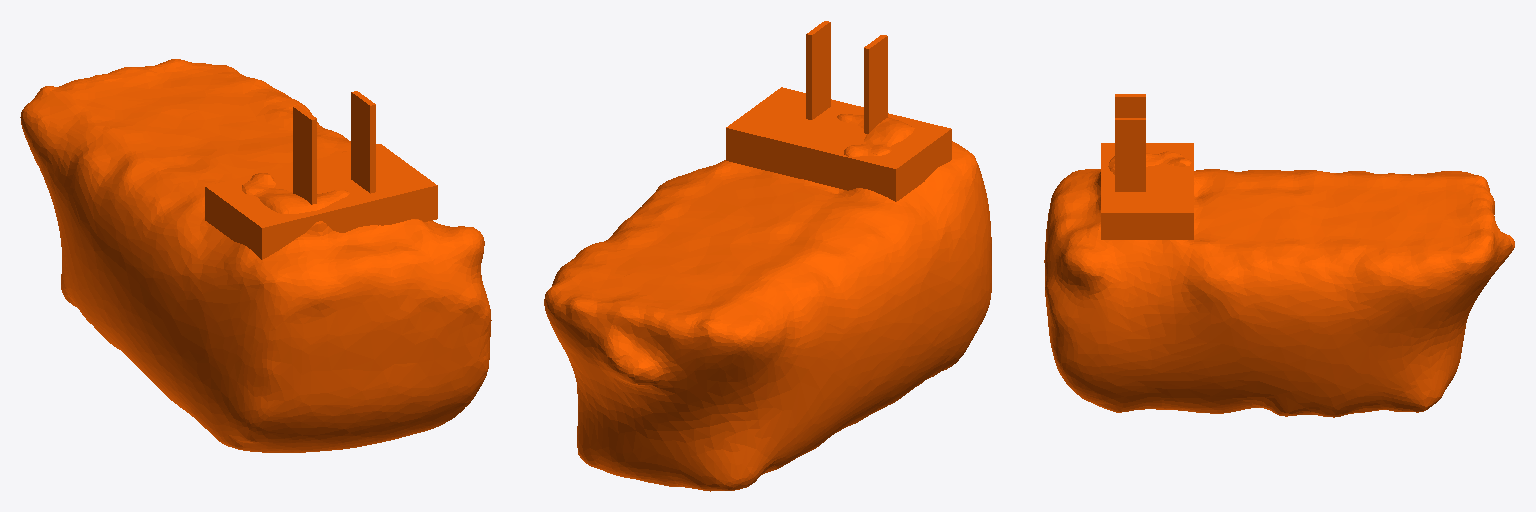
URDF robot description (plug):
<?xml version="1.0" ?>
<robot name="plug">
   <material name="obj_color">
      <color rgba="1.0 0.423529411765 0.0392156862745 1.0"/>
   </material>
   <link name="top">
      <inertial>
         <origin rpy="6.495050719484784e-05 0.0001523156004076176 0.000162102019527832" xyz="-2.769787480431226e-05 0.0001669338962743572 -0.004360600856857852"/>
         <mass value="0.2482988357077718"/>
         <inertia ixx="0.0001525355987003168" ixy="-1.668826193585857e-06" ixz="1.598776681439134e-06" iyy="6.505039336145789e-05" iyz="2.536861963664881e-06" izz="0.0001617821350685228"/>
      </inertial>
      <visual>
         <origin rpy="0 0 0" xyz="0 0 0"/>
         <geometry>
            <mesh filename="top_watertight_tiny.stl" scale="1 1 1"/>
         </geometry>
         <material name="obj_color"/>
      </visual>
      <collision>
         <origin rpy="0 0 0" xyz="0 0 0"/>
         <geometry>
            <mesh filename="top_watertight_tiny.obj" scale="1 1 1"/>
         </geometry>
      </collision>
   </link>
   <link name="bottom">
      <inertial>
         <origin rpy="1.633333333199431e-08 1.633333333199431e-08 1.633333333362855e-08" xyz="0.3464080000000008 0.3464080000000008 0.3464080000000008"/>
         <mass value="0.0009800000000000017"/>
         <inertia ixx="1.633333333253906e-08" ixy="5.447480642029219e-19" ixz="5.447480642029219e-19" iyy="1.633333333253906e-08" iyz="5.447480642029219e-19" izz="1.633333333253906e-08"/>
      </inertial>
      <visual>
         <origin rpy="0 0 0" xyz="0 0 0"/>
         <geometry>
            <mesh filename="bottom_watertight_tiny.stl" scale="1 1 1"/>
         </geometry>
         <material name="obj_color"/>
      </visual>
   </link>
   <joint name="rotation" type="revolute">
      <origin xyz="0 0 0"/>
      <axis xyz="0 0 -1"/>
      <parent link="bottom"/>
      <child link="top"/>
      <dynamics damping="1.0" friction="1.0"/>
      <limit effort="0.1" velocity="0.1" lower="0" upper="0.001"/>
   </joint>
</robot>

--- Facts derived from the render (not from the file) ---
3 views of the same robot in one strip: view 1: azimuth 30°, elevation 25°; view 2: azimuth 150°, elevation 25°; view 3: azimuth 270°, elevation 25° (orthographic).
Robot: plug — 2 links, 1 joints (1 revolute); root link bottom; default pose: every joint at zero.
Visible links, largest first — view 1: top; view 2: top; view 3: top.
Boxes of the visible links, bbox=[...] form: top: bbox=[20, 59, 491, 452]; top: bbox=[544, 21, 991, 491]; top: bbox=[1044, 94, 1514, 417].
Size in the robot's own frame: 0.0506 by 0.0912 by 0.0589 metres.
1 mesh visuals loaded from 2 distinct referenced files (1 binary STL); not drawn: 1 (reference not matched to a file when rendering).
